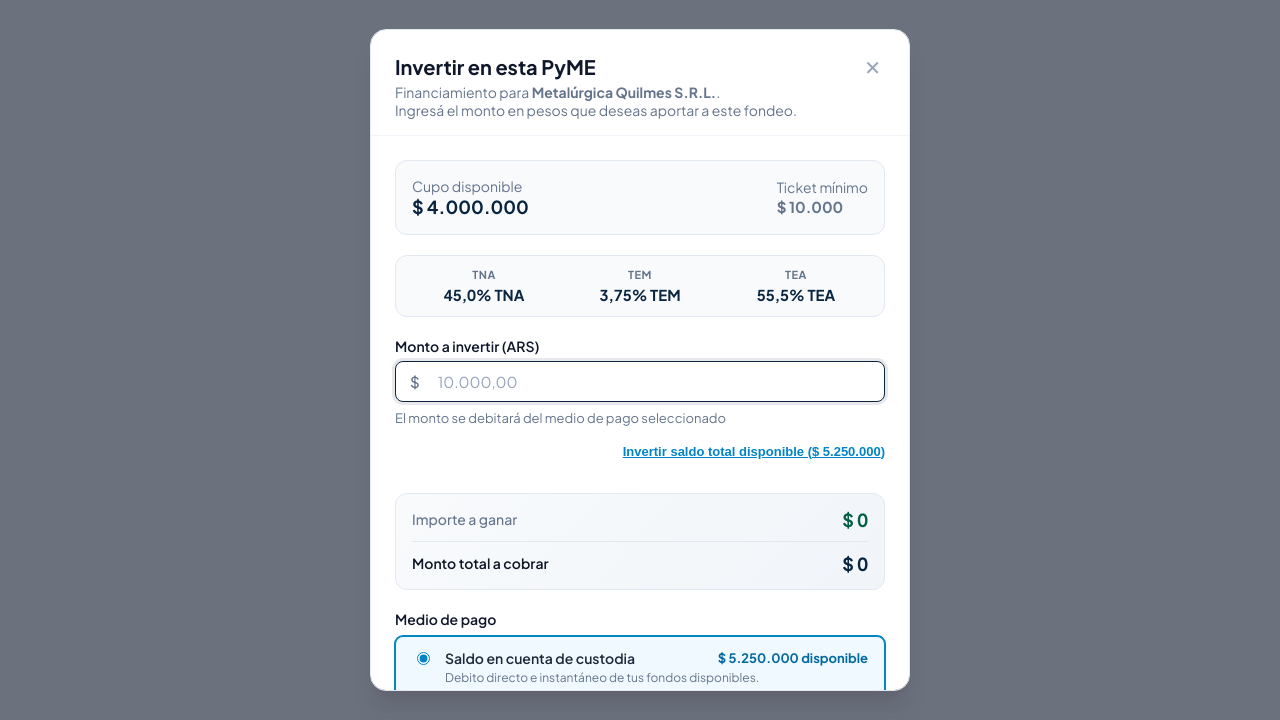
Test: InvestmentModal Component (Task 10) › enables submission button when amount is valid and credit risk is accepted
Type "500000" into the field with test id "investment-amount-input". click: [654, 381]
box: [424, 362, 884, 401]
(page scrolled)
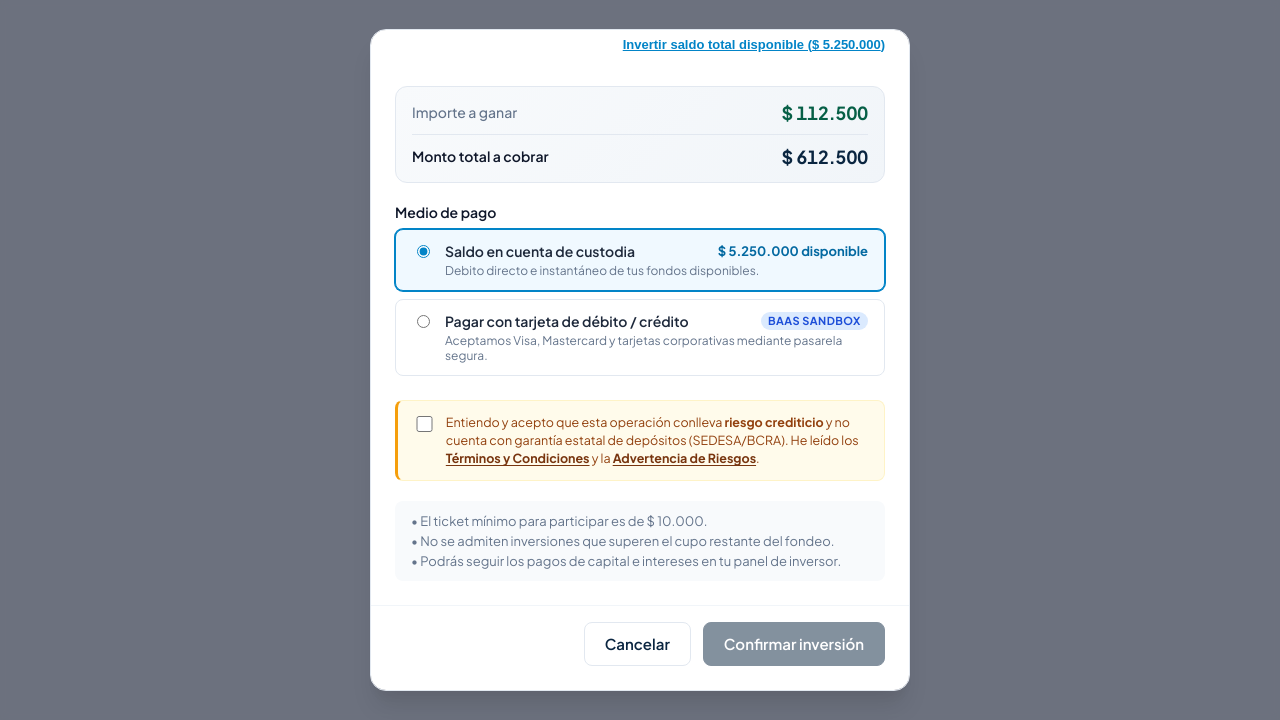
Click the checkbox with test id "credit-risk-checkbox". click: [424, 424]
box: [416, 416, 433, 432]
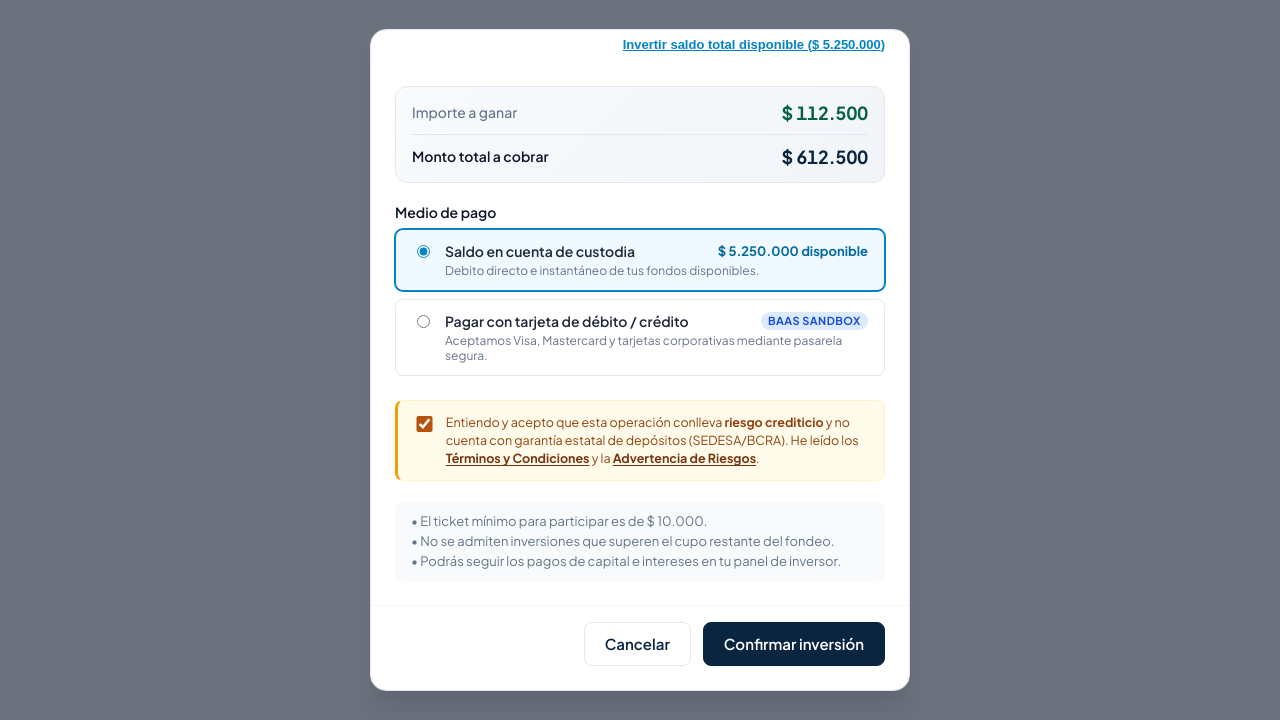
Now the button with test id "modal-confirm-button" is enabled, box [703, 622, 885, 666]
